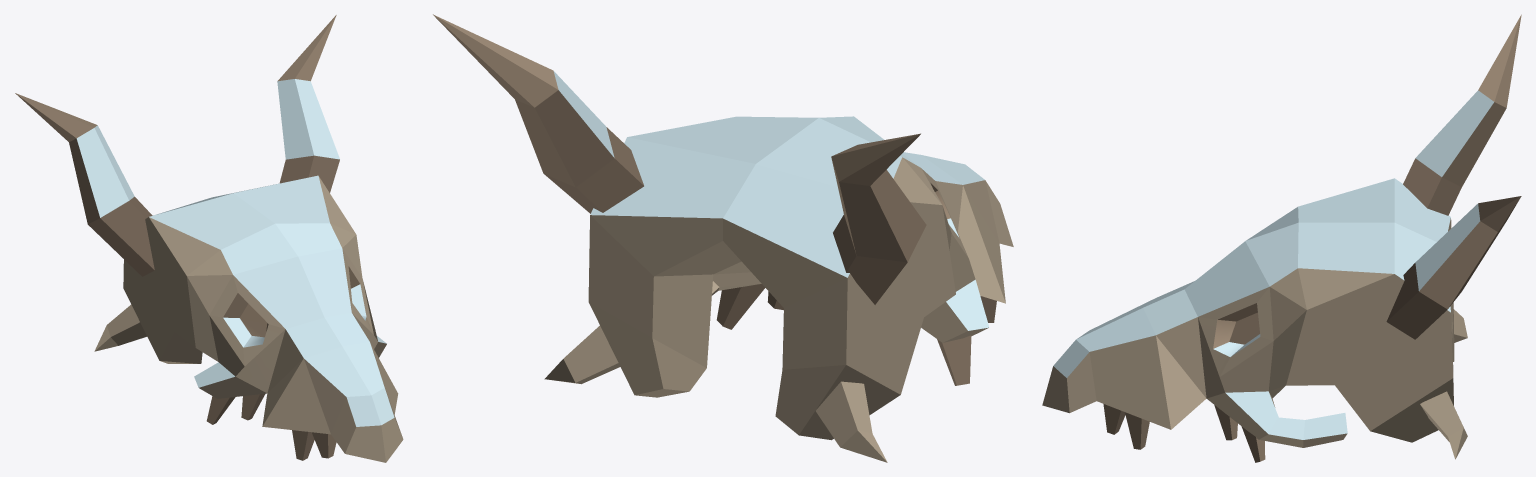
File: SM_Env_Dungeon_Skull_01_Snow.fbx
3 renders of one model, left to right at view 1: azimuth 30°, elevation 25°; view 2: azimuth 150°, elevation 25°; view 3: azimuth 270°, elevation 25°, orthographic. The views are drawn at different scales.
Visible parts, largest first — view 1: SM_Env_Dungeon_Skull_01_Snow; view 2: SM_Env_Dungeon_Skull_01_Snow; view 3: SM_Env_Dungeon_Skull_01_Snow.
Boxes of the visible parts, box(x1,y1,x2,y2) form: SM_Env_Dungeon_Skull_01_Snow: box(15, 15, 403, 462); SM_Env_Dungeon_Skull_01_Snow: box(433, 14, 1013, 462); SM_Env_Dungeon_Skull_01_Snow: box(1042, 14, 1521, 462).
Size of the model in its own units: 130 by 106 by 145.
Materials: 1 (1 with a texture image).
